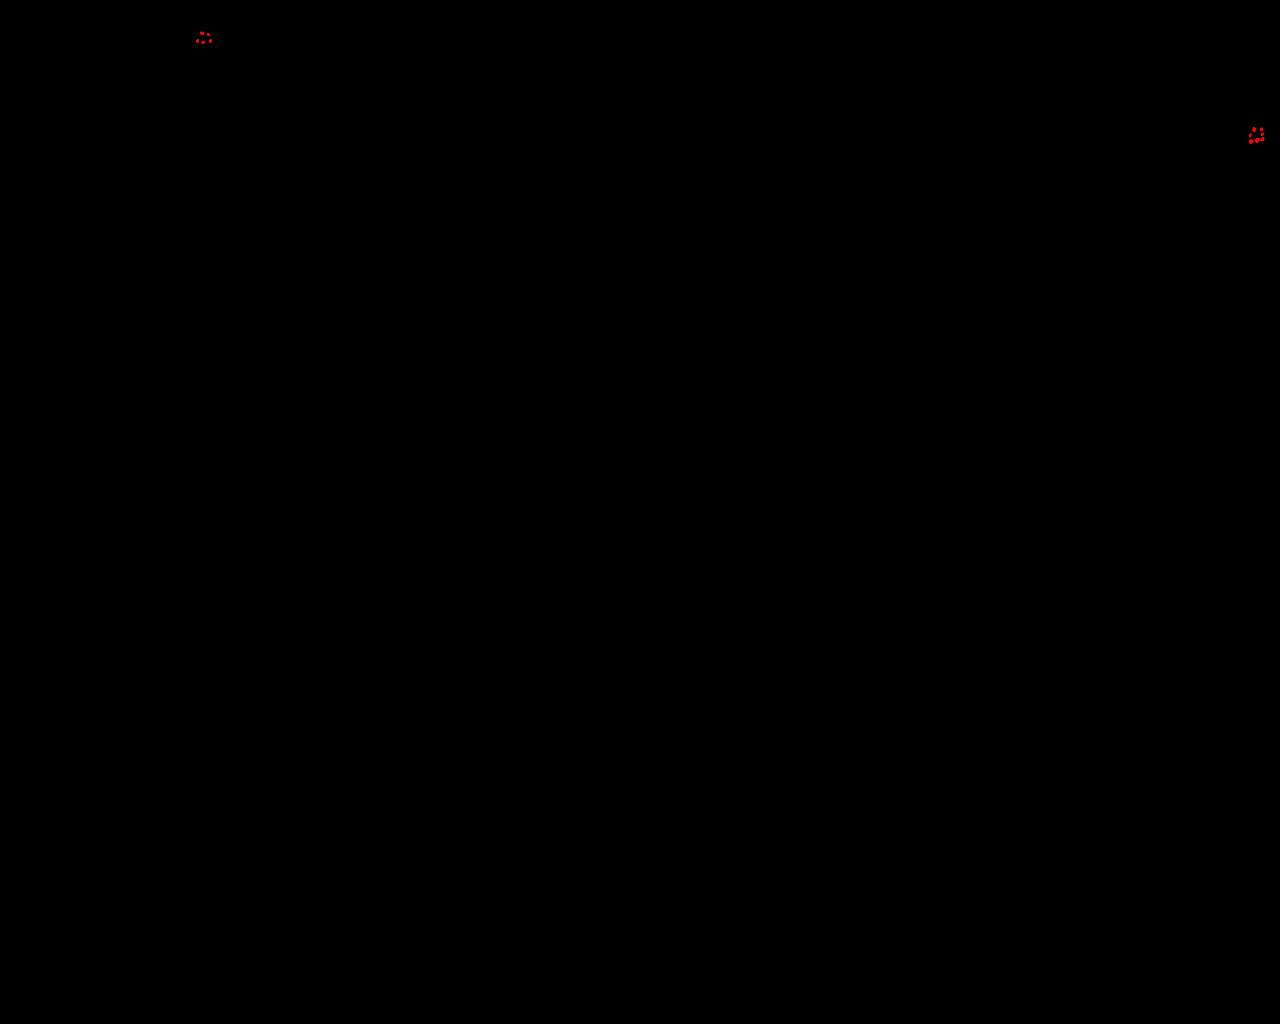Target: (1249, 139, 1254, 144), (1260, 137, 1265, 141), (1255, 138, 1259, 143), (1252, 127, 1256, 132), (200, 31, 204, 34), (209, 39, 212, 43), (201, 41, 205, 44), (1249, 133, 1252, 137), (1260, 127, 1263, 131), (1261, 133, 1264, 136), (196, 39, 199, 43), (207, 33, 210, 36)
